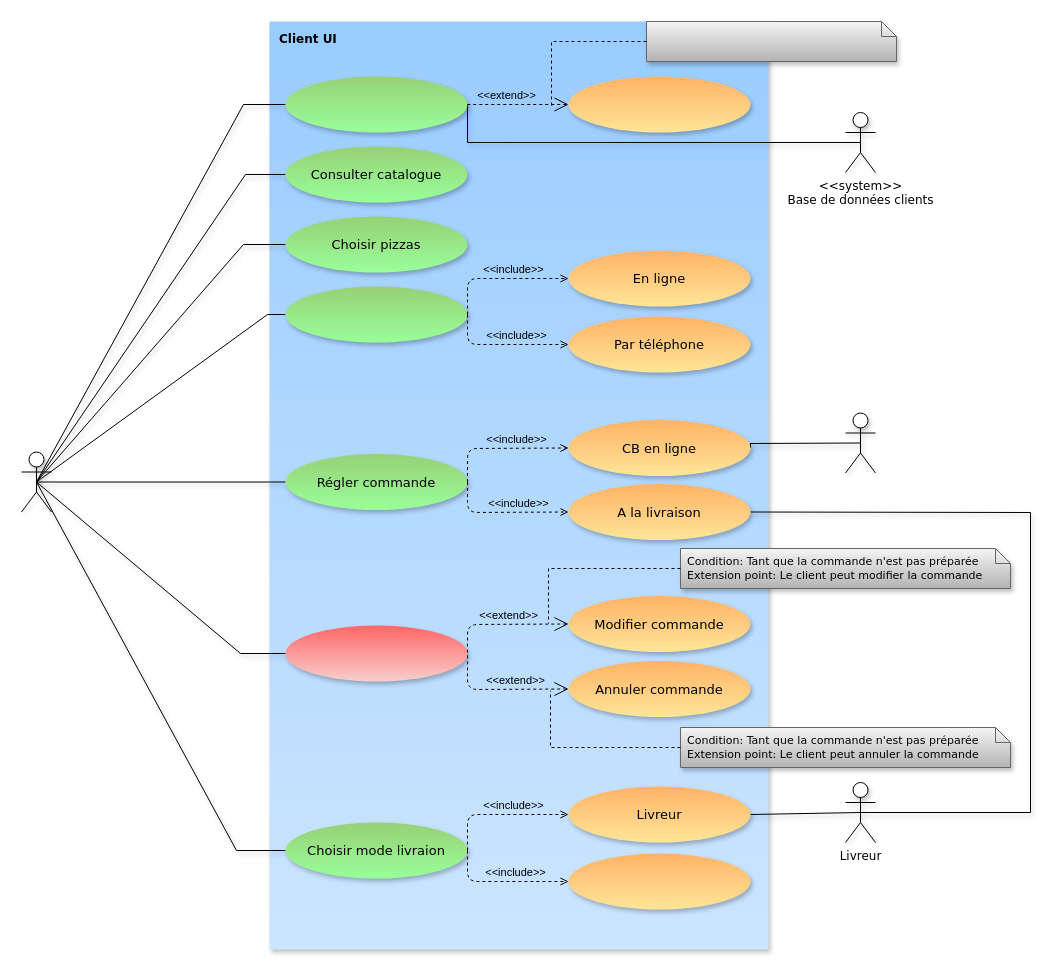
This 1055x974 diagram has some shape labels left out. The shapes that lost their labels are listed below. From the top down, each one's centre as x and y in pixels, then its label:
At (772,42): "Condition: Le client n'a pas de compte Extension point: Le client créé un compte".
At (377,105): "S'authentifier".
At (660,105): "Créer compte".
At (377,315): "Passer commande".
At (861,444): "<<system>> Serveur bancaire".
At (37,483): "Client".
At (377,654): "Mise à jour commande".
At (660,882): "A emporter".
